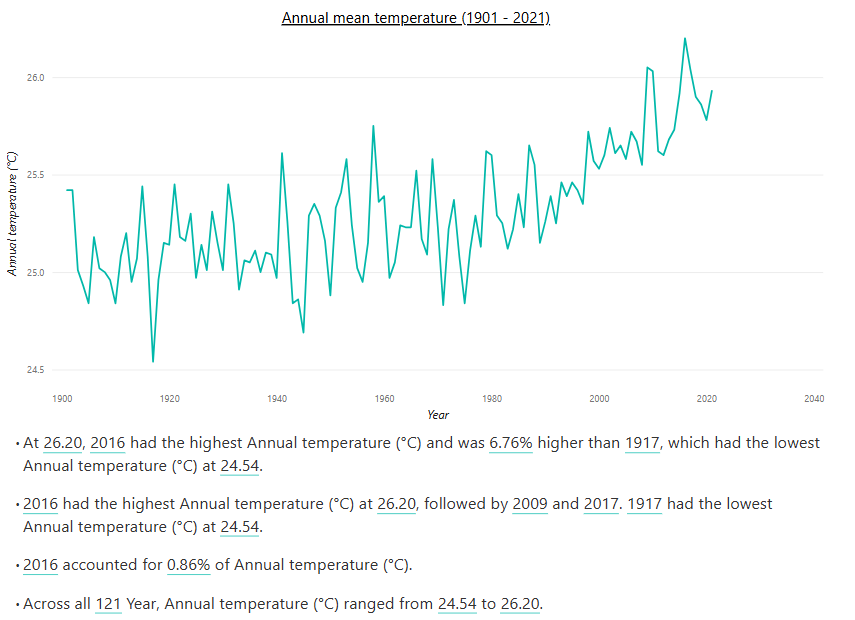

What the dashboard file says about the page in this screenshot:
{"tool":"powerbi","page":{"name":"Page 1","canvas":[1280,720],"ordinal":0},"visuals":[{"type":"lineChart","title":"Annual mean temperature (1901 - 2021)","fields":{"Category":["climate_cleaned.YEAR"],"Y":["Sum(climate_cleaned.ANNUAL_MEAN)"]},"box":[10,8.6,944.3,480],"z":0},{"type":"textbox","box":[10,488.6,944.3,231.4],"z":1000}]}

Visuals, with their boxes on the page's 1280x720 design canvas (x1, y1, x2, y2). These are canvas units, not pixel positions in the 855x620 screenshot, which may show the page scaled, cropped or inside an application window:
"Annual mean temperature (1901 - 2021)" lineChart: <region>10, 9, 954, 489</region>
textbox: <region>10, 489, 954, 720</region>
